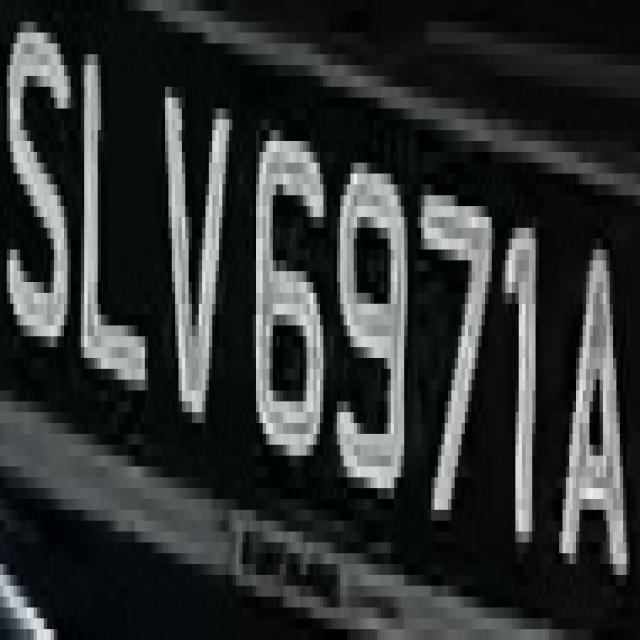1: (498, 152, 542, 607)
6: (246, 87, 327, 477)
7: (421, 152, 499, 553)
9: (330, 108, 421, 510)
A: (549, 217, 637, 618)
L: (77, 11, 152, 434)
S: (3, 0, 78, 369)
V: (152, 54, 232, 456)
